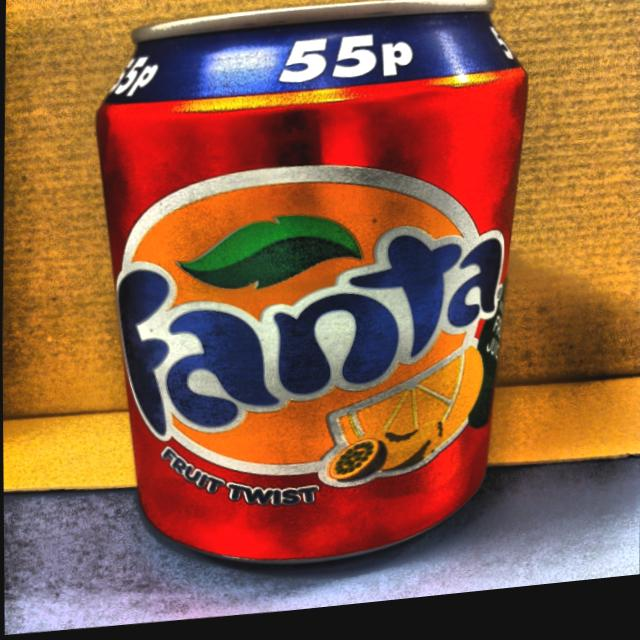Cans: (79, 0, 539, 610)
